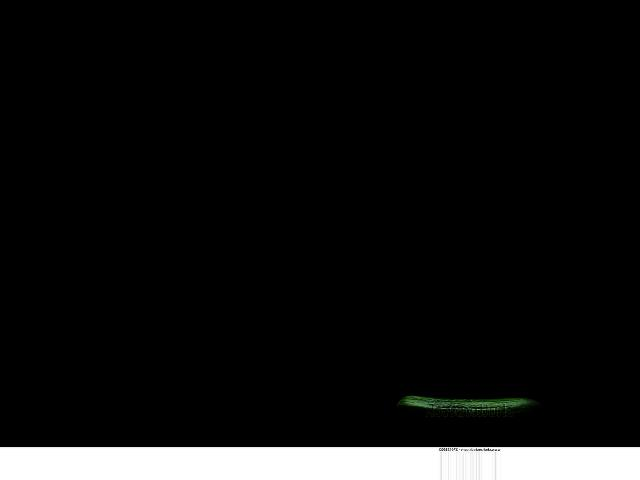cucumber: (395, 396, 542, 418)
